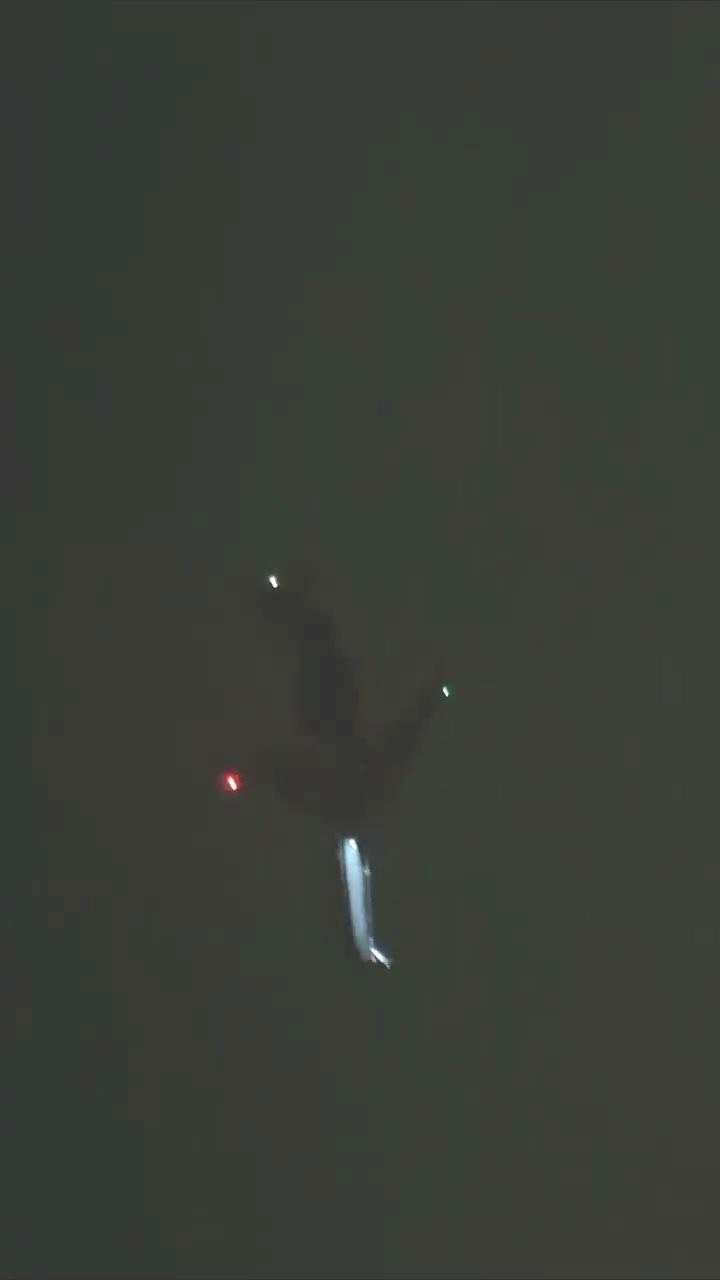Plane: (190, 533, 402, 988)
